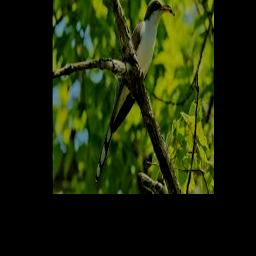Cuckoo: (95, 0, 173, 181)
